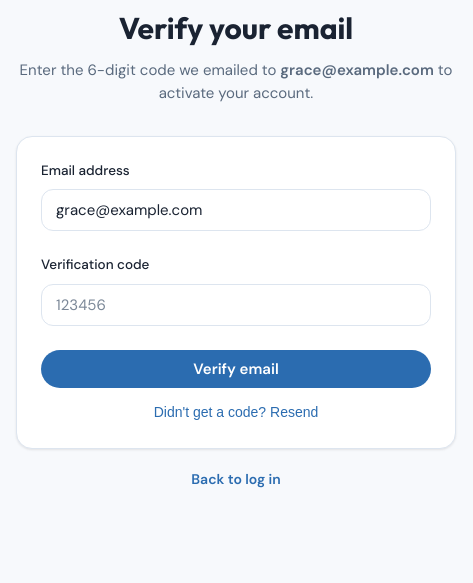
Test case: VerifyEmail page › rejects submission with a code shorter than 6 digits
Type "123" into the field labelled "Verification code" at [236, 304], box [41,284,431,326]
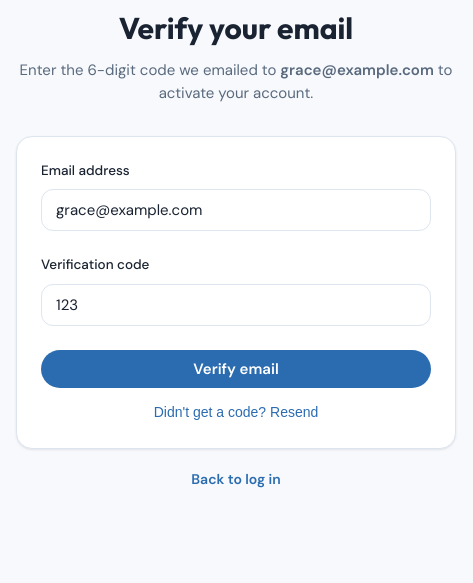
Click the button "Verify email" at [236, 368], box [41,350,431,388]
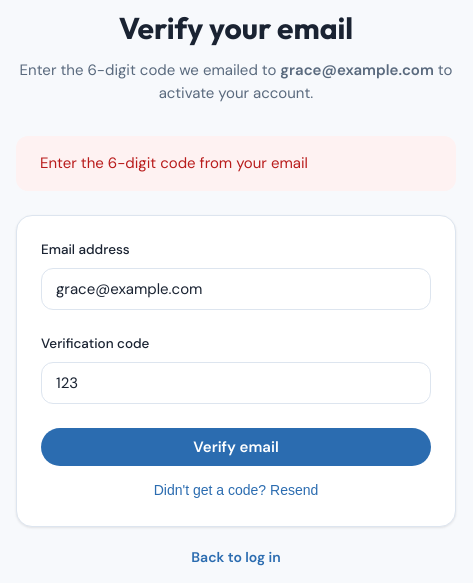
Expected: the text "Enter the 6-digit code from your email" is shown, [16,136,456,190]
